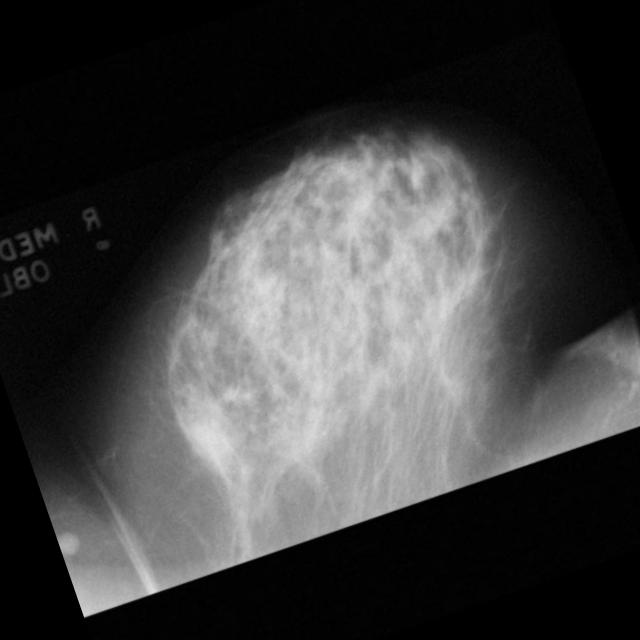MISC: (156, 387, 262, 493)
